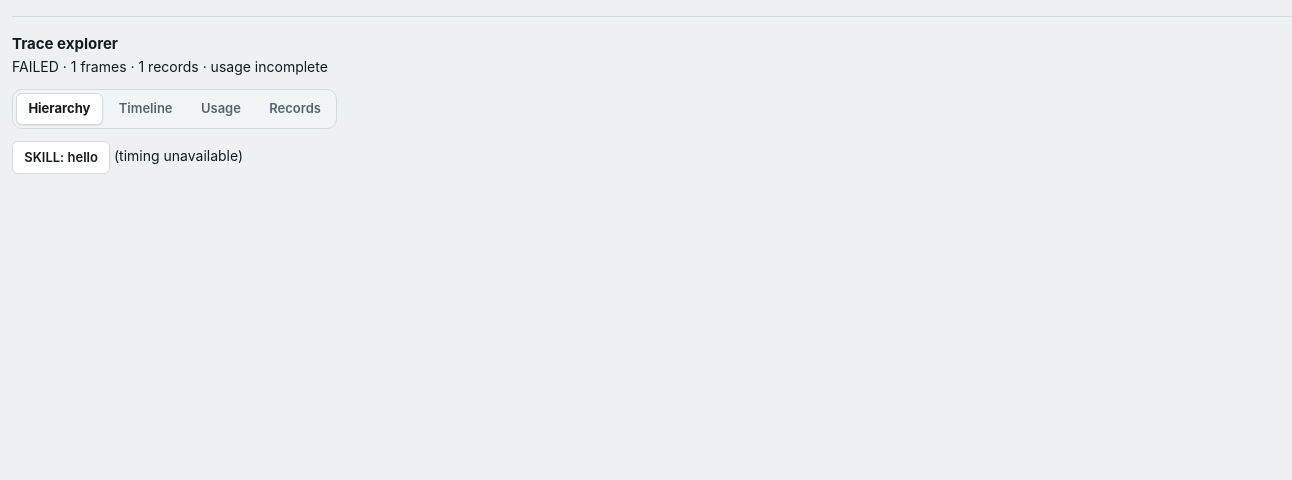
continues a finite payload range using the returned opaque cursor
Expected: the text "FAILED · 1 frames · 1 records · usage incomplete" is shown, [12,58,328,74]
Click the tab "Records" at {"x": 295, "y": 109}, box [257,93,333,125]
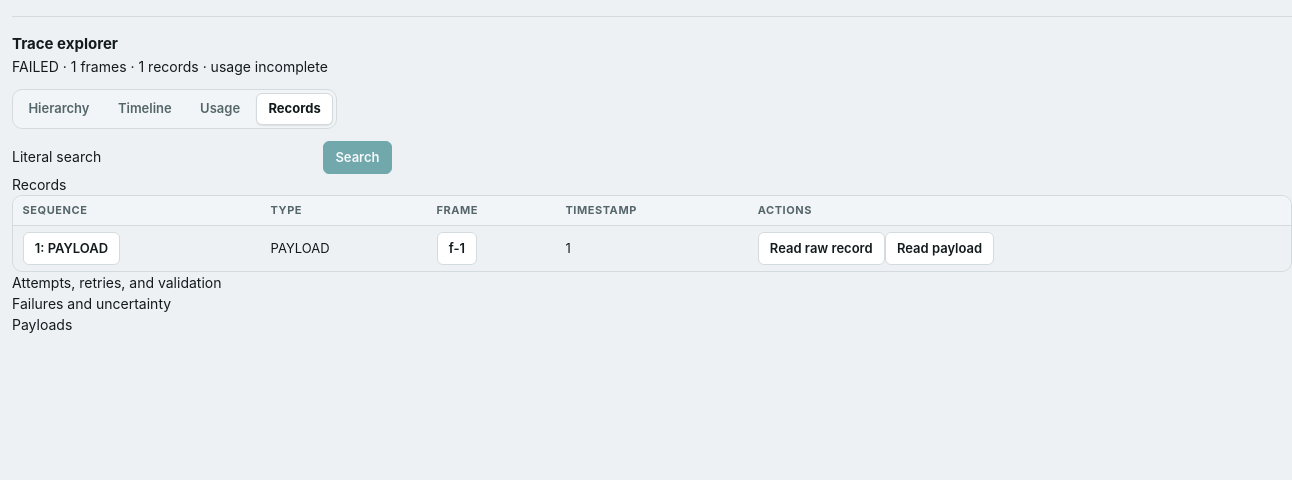
Result: the button "1: PAYLOAD" is shown at [23,232,120,264]
Click the button "Read payload" at {"x": 940, "y": 248}, box [885,232,994,264]
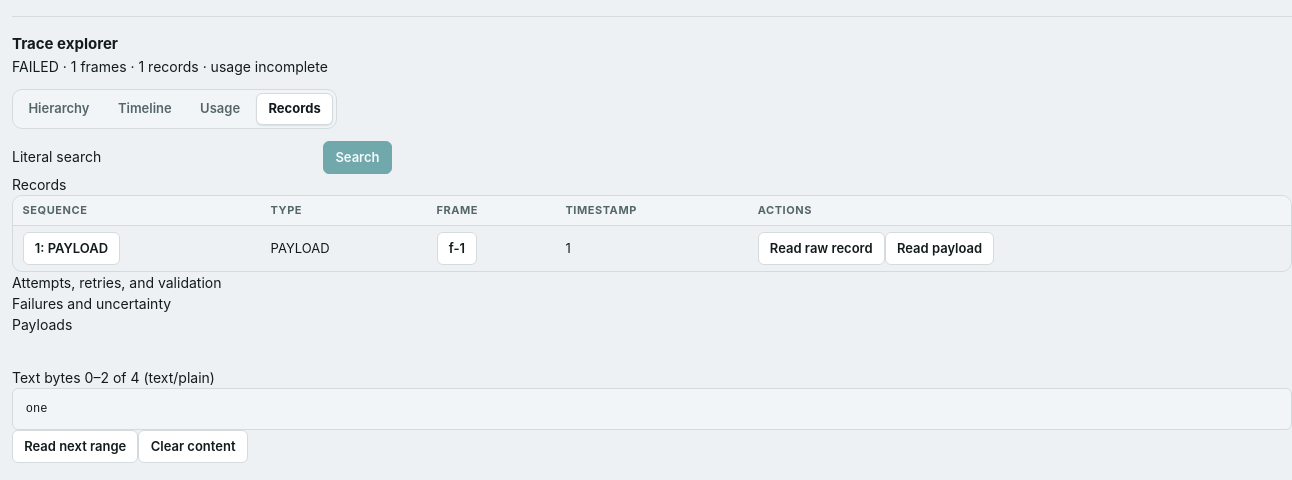
Result: the text "one" is shown at [12,388,1291,430]
Click the button "Read next range" at {"x": 75, "y": 446}, box [12,430,138,463]
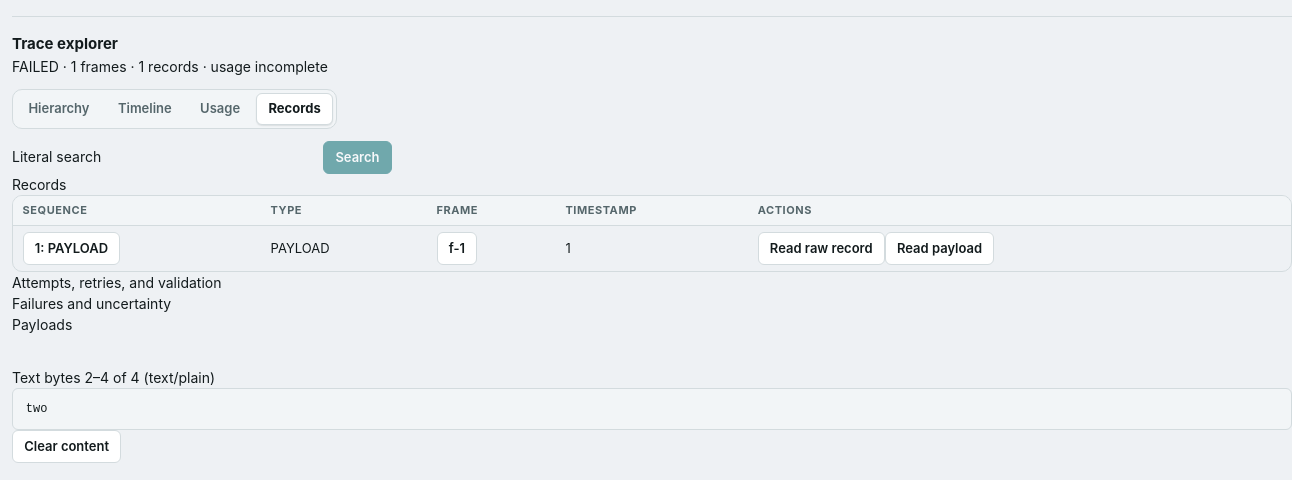
Result: the text "two" is shown at [12,388,1291,430]
